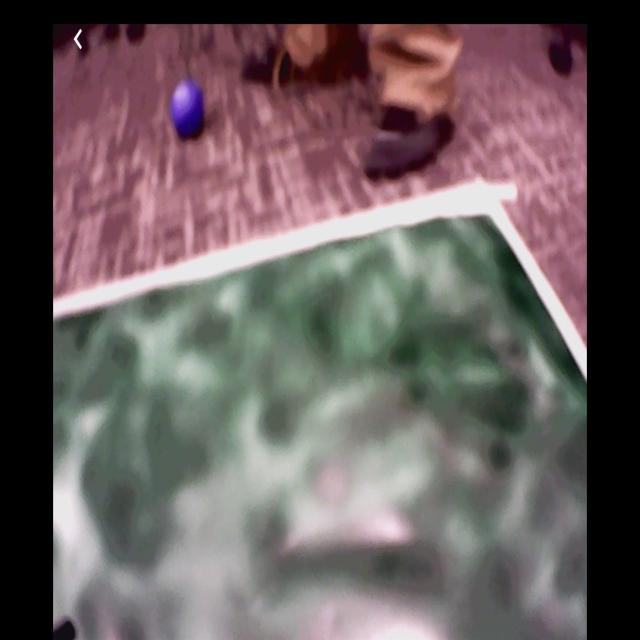ball: (172, 81, 204, 135)
